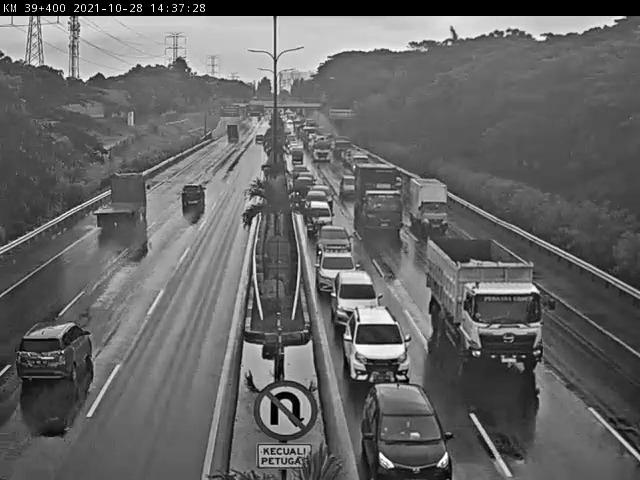big truck: (427, 236, 556, 373), (354, 164, 405, 235), (96, 171, 151, 234)
car: (359, 382, 453, 480), (344, 307, 410, 386), (14, 323, 94, 384), (333, 270, 381, 330), (312, 246, 358, 293), (316, 225, 354, 260), (304, 197, 333, 233), (182, 184, 208, 206)
small truck: (411, 176, 450, 233)
